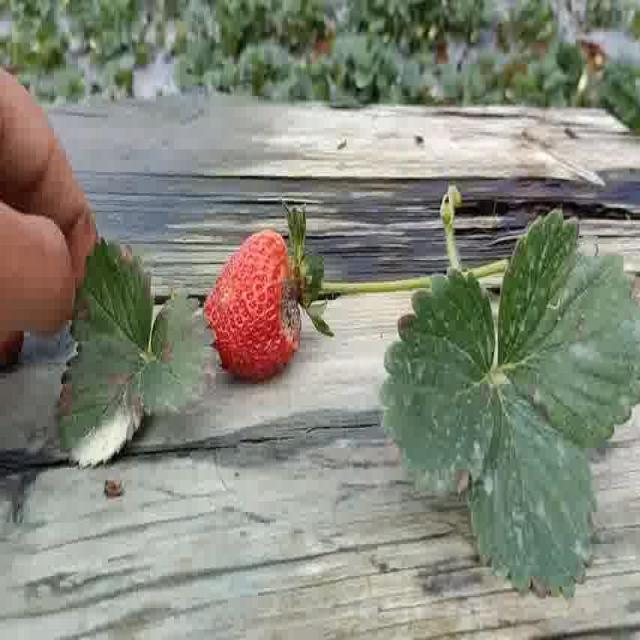Mancha negra Antracnosis: (195, 227, 302, 381)
